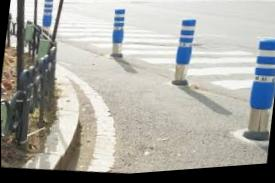Animal: (244, 44, 275, 142), (171, 20, 197, 86), (105, 8, 131, 58), (41, 0, 59, 29)
